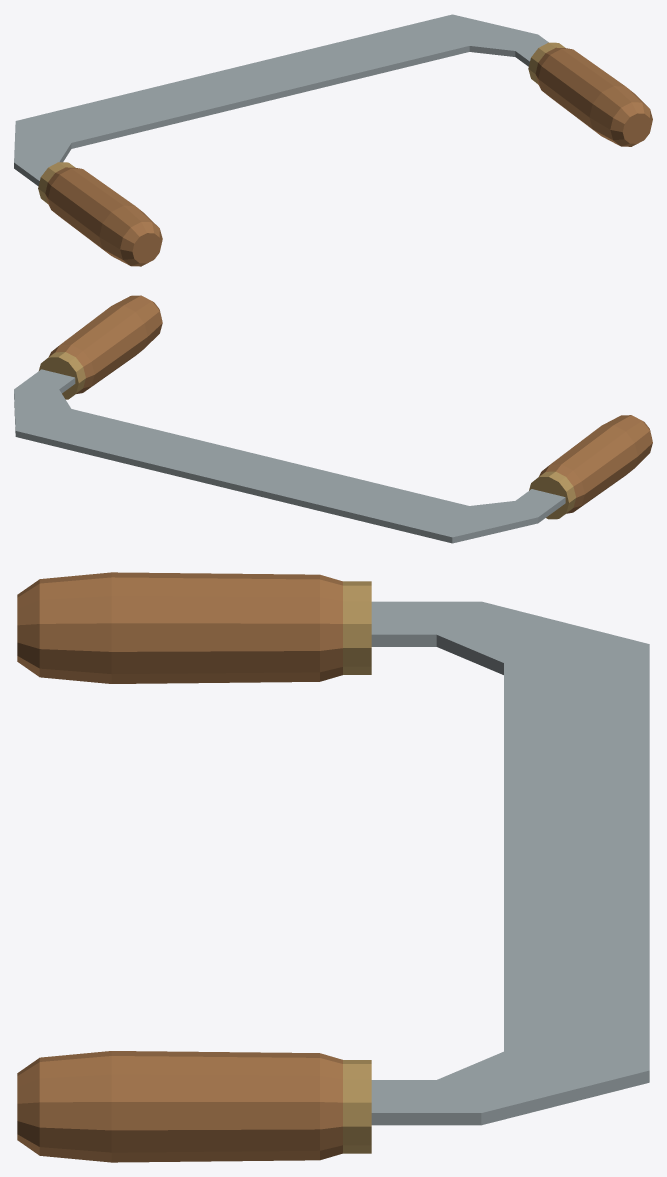
3 views of the same model, one above another, from view 1: azimuth 30°, elevation 25°; view 2: azimuth 150°, elevation 25°; view 3: azimuth 270°, elevation 25° (orthographic). The views are drawn at different scales.
Visible parts, largest first — view 1: WholeBroadBladeAndTwoReturnedTangs, LeftWholeShapedWoodGrip, RightWholeShapedWoodGrip, LeftWholeFixedEndCollar, RightWholeFixedEndCollar; view 2: WholeBroadBladeAndTwoReturnedTangs, LeftWholeShapedWoodGrip, RightWholeShapedWoodGrip, LeftWholeFixedEndCollar, RightWholeFixedEndCollar; view 3: WholeBroadBladeAndTwoReturnedTangs, LeftWholeShapedWoodGrip, RightWholeShapedWoodGrip, LeftWholeFixedEndCollar, RightWholeFixedEndCollar.
Part boxes in pixels (x1=…): WholeBroadBladeAndTwoReturnedTangs: x1=14, y1=14, x2=548, y2=186; LeftWholeShapedWoodGrip: x1=45, y1=167, x2=162, y2=266; RightWholeShapedWoodGrip: x1=535, y1=47, x2=652, y2=146; LeftWholeFixedEndCollar: x1=38, y1=162, x2=74, y2=203; RightWholeFixedEndCollar: x1=528, y1=42, x2=565, y2=84; WholeBroadBladeAndTwoReturnedTangs: x1=14, y1=369, x2=565, y2=543; LeftWholeShapedWoodGrip: x1=539, y1=415, x2=652, y2=513; RightWholeShapedWoodGrip: x1=49, y1=295, x2=162, y2=393; LeftWholeFixedEndCollar: x1=529, y1=471, x2=575, y2=519; RightWholeFixedEndCollar: x1=39, y1=352, x2=85, y2=399; WholeBroadBladeAndTwoReturnedTangs: x1=371, y1=601, x2=649, y2=1125; LeftWholeShapedWoodGrip: x1=17, y1=572, x2=342, y2=683; RightWholeShapedWoodGrip: x1=17, y1=1051, x2=342, y2=1162; LeftWholeFixedEndCollar: x1=343, y1=581, x2=371, y2=674; RightWholeFixedEndCollar: x1=343, y1=1060, x2=371, y2=1153.
Bounding box in the file's own units: 0.555 × 0.05 × 0.282.
